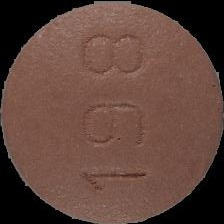76237-242: (0, 0, 224, 224)
